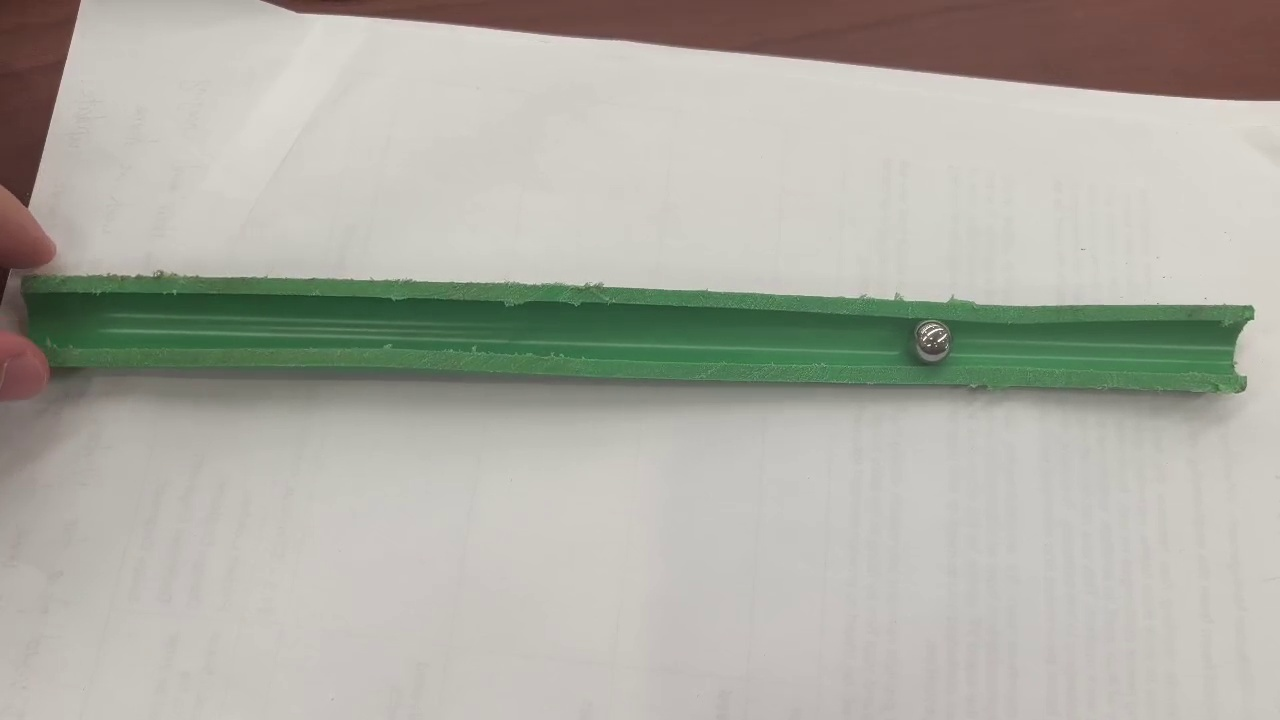ball: (915, 322, 951, 363)
